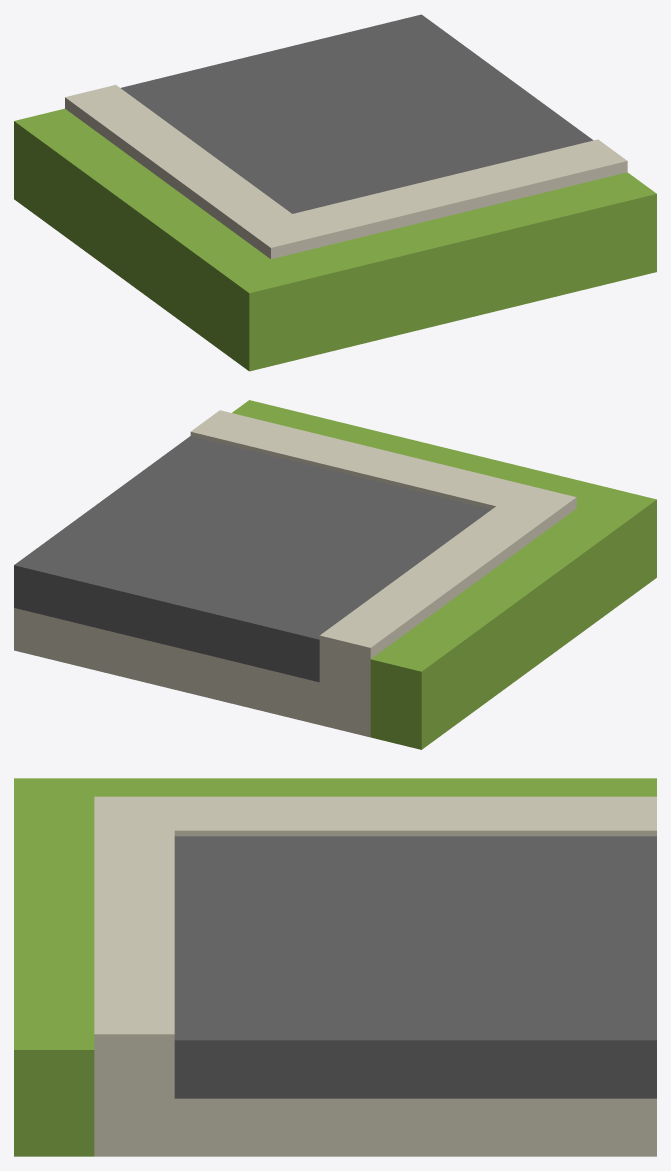
The model's file is road-large-square-corner.obj.
The picture shows the model from 3 angles, top to bottom: view 1: azimuth 30°, elevation 25°; view 2: azimuth 150°, elevation 25°; view 3: azimuth 270°, elevation 25°; orthographic projection. The views are drawn at different scales.
Parts seen in each view (by area): view 1: Mesh1_Group1_Model.034; view 2: Mesh1_Group1_Model.034; view 3: Mesh1_Group1_Model.034.
Boxes of the visible parts, left/top/right/bottom form: Mesh1_Group1_Model.034: left=14, top=14, right=656, bottom=371; Mesh1_Group1_Model.034: left=14, top=400, right=656, bottom=749; Mesh1_Group1_Model.034: left=14, top=778, right=656, bottom=1156.
Bounding box in the file's own units: 3 × 0.63 × 3.
